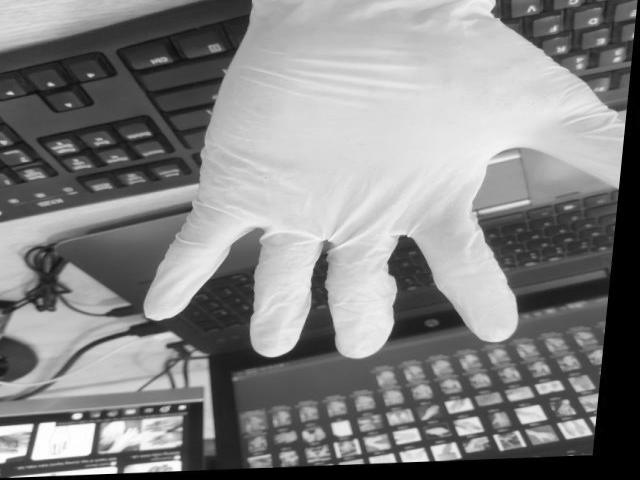gloved: (144, 0, 632, 360)
